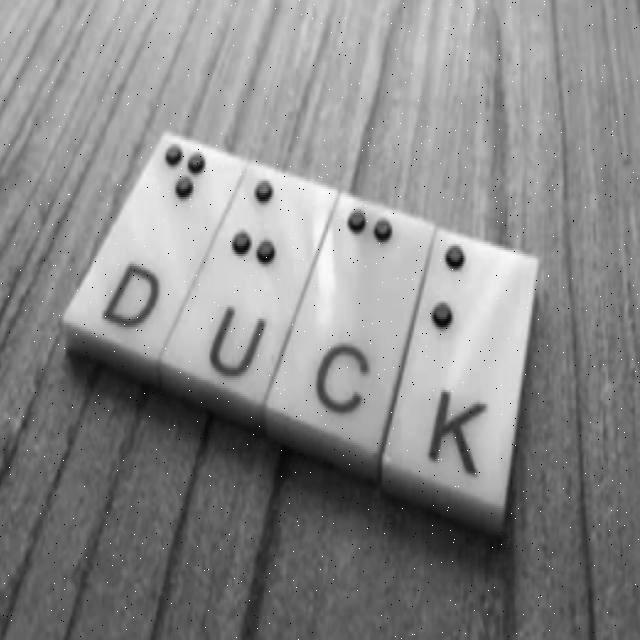C: (314, 201, 407, 334)
D: (120, 129, 234, 247)
K: (418, 230, 505, 362)
U: (216, 166, 316, 291)
